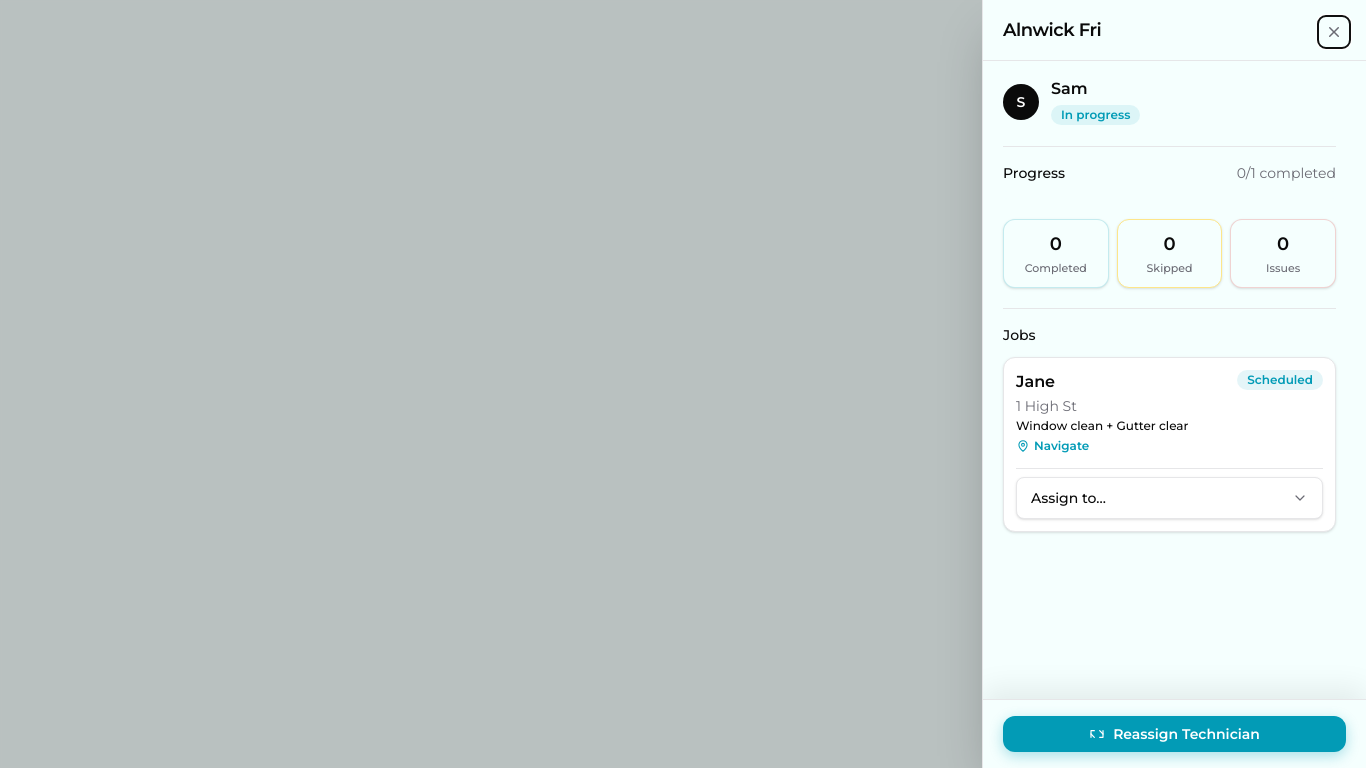
Today's Work stop card › shows the services and assigns every visit in the stop
expect the text "Window clean + Gutter clear" is shown: met, box [1016,418,1188,434]
Step 1. Click the button with aria-label "Assign this visit" → click(1069, 498), box [1016,476,1323,518]
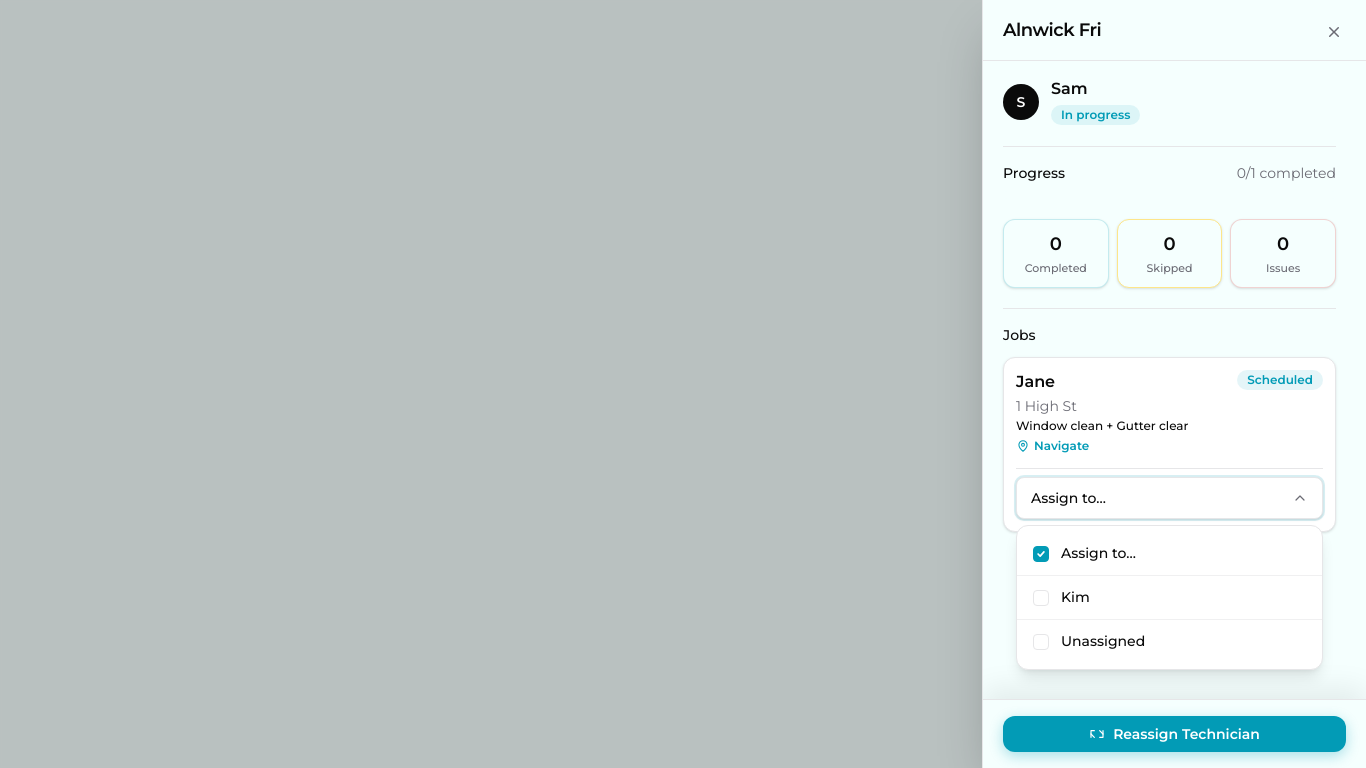
Step 2. Click the option "Kim" → click(1041, 598), box [1017,576,1322,620]
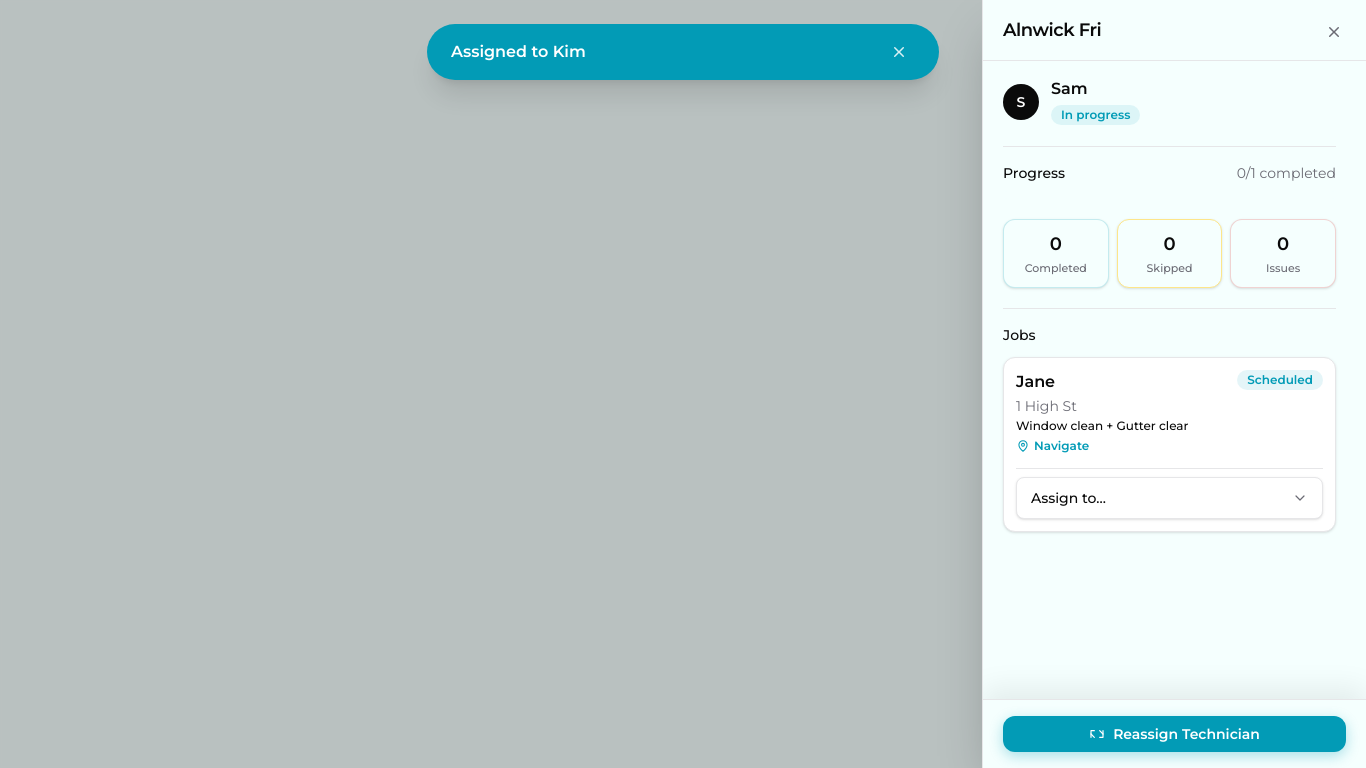
expect the text "Assigned to Kim" is shown: met, box [451,40,586,64]
